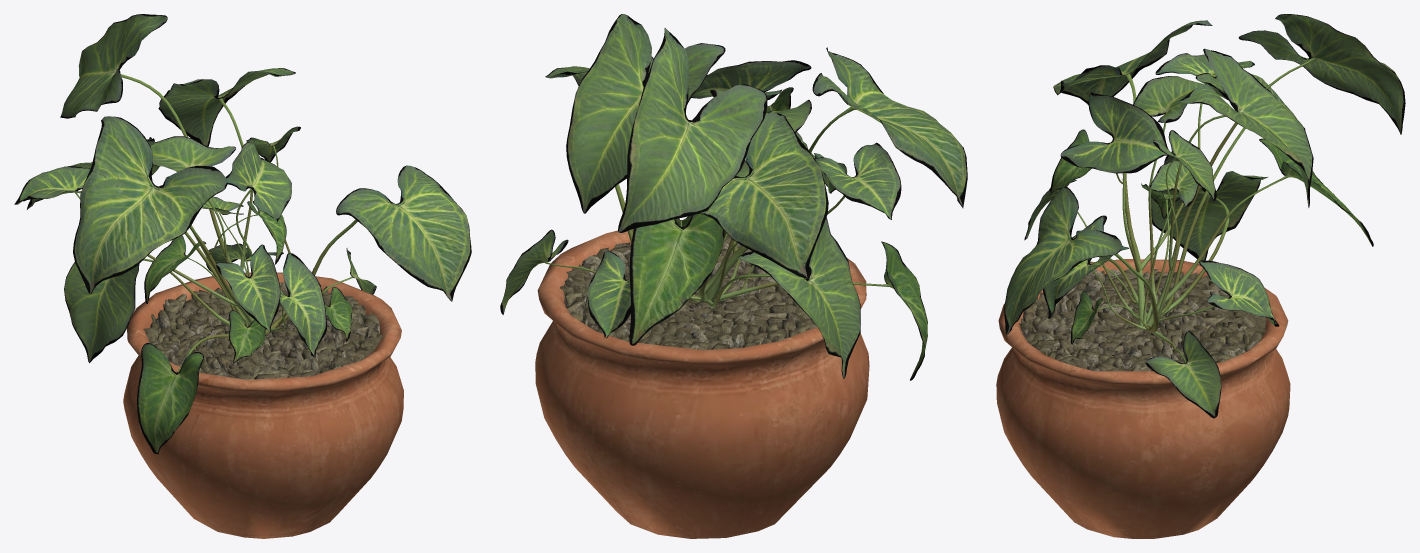
The model's file is potted_plant_02.glb.
3 views of the same model, side by side, from view 1: azimuth 30°, elevation 25°; view 2: azimuth 150°, elevation 25°; view 3: azimuth 270°, elevation 25° (orthographic). The views are drawn at different scales.
Visible parts, largest first — view 1: potted_plant_02_leaves, potted_plant_02_pot; view 2: potted_plant_02_leaves, potted_plant_02_pot; view 3: potted_plant_02_pot, potted_plant_02_leaves.
Boxes of the visible parts, x1=… form: potted_plant_02_leaves: x1=14, y1=14, x2=471, y2=454; potted_plant_02_pot: x1=123, y1=272, x2=403, y2=538; potted_plant_02_leaves: x1=500, y1=14, x2=967, y2=380; potted_plant_02_pot: x1=535, y1=220, x2=869, y2=538; potted_plant_02_pot: x1=996, y1=259, x2=1290, y2=538; potted_plant_02_leaves: x1=1004, y1=14, x2=1405, y2=418.
Bounding box in the file's own units: 0.7012 × 0.8412 × 0.6561.
2 materials, 2 textured.
